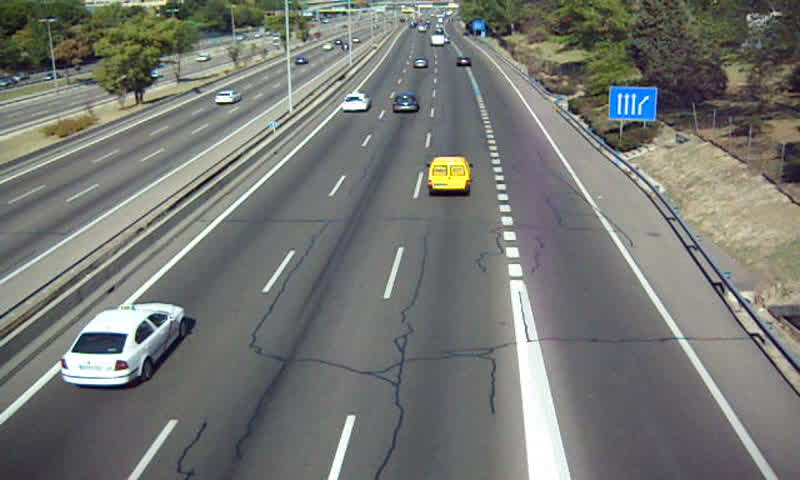car: (60, 303, 186, 386), (340, 92, 370, 112), (392, 93, 420, 114), (412, 57, 428, 71), (456, 55, 473, 68)
van: (427, 156, 471, 196)
